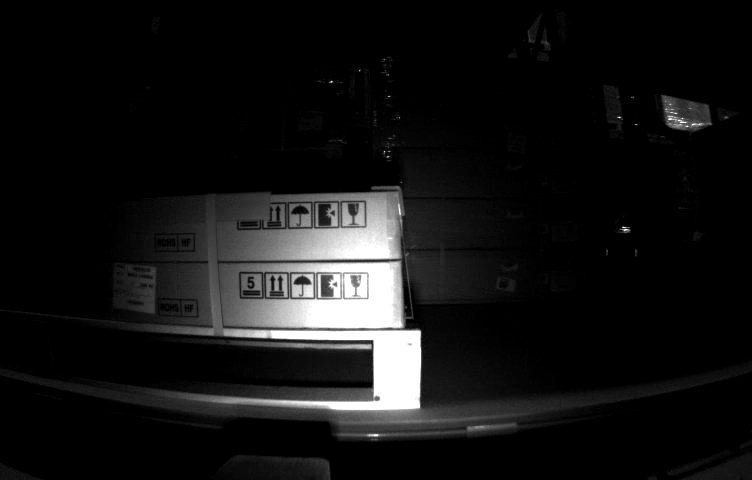True Barcode: (114, 261, 159, 317)
